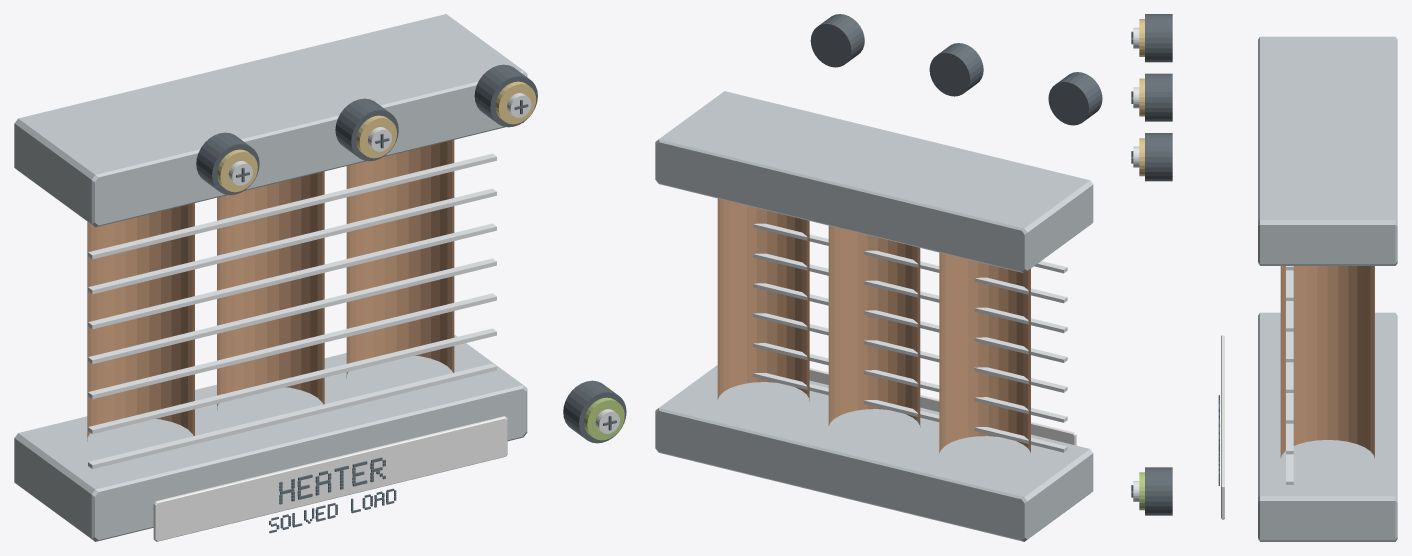
The model's file is heater3Phase.glb.
The picture shows the model from 3 angles, left to right: view 1: azimuth 30°, elevation 25°; view 2: azimuth 150°, elevation 25°; view 3: azimuth 270°, elevation 25°; orthographic projection. The views are drawn at different scales.
Parts seen in each view (by area): view 1: heater3Phase-detailed; view 2: heater3Phase-detailed; view 3: heater3Phase-detailed.
Boxes of the visible parts, bbox=[...] form: heater3Phase-detailed: bbox=[14, 14, 626, 541]; heater3Phase-detailed: bbox=[655, 14, 1102, 541]; heater3Phase-detailed: bbox=[1131, 14, 1397, 541].
Size of the model in its own units: 3.09 by 2.76 by 1.73.
